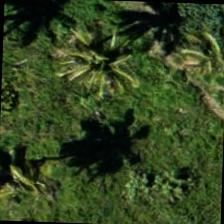Kelapa_Sawit: (38, 12, 132, 105), (0, 126, 64, 219), (165, 13, 223, 107)
